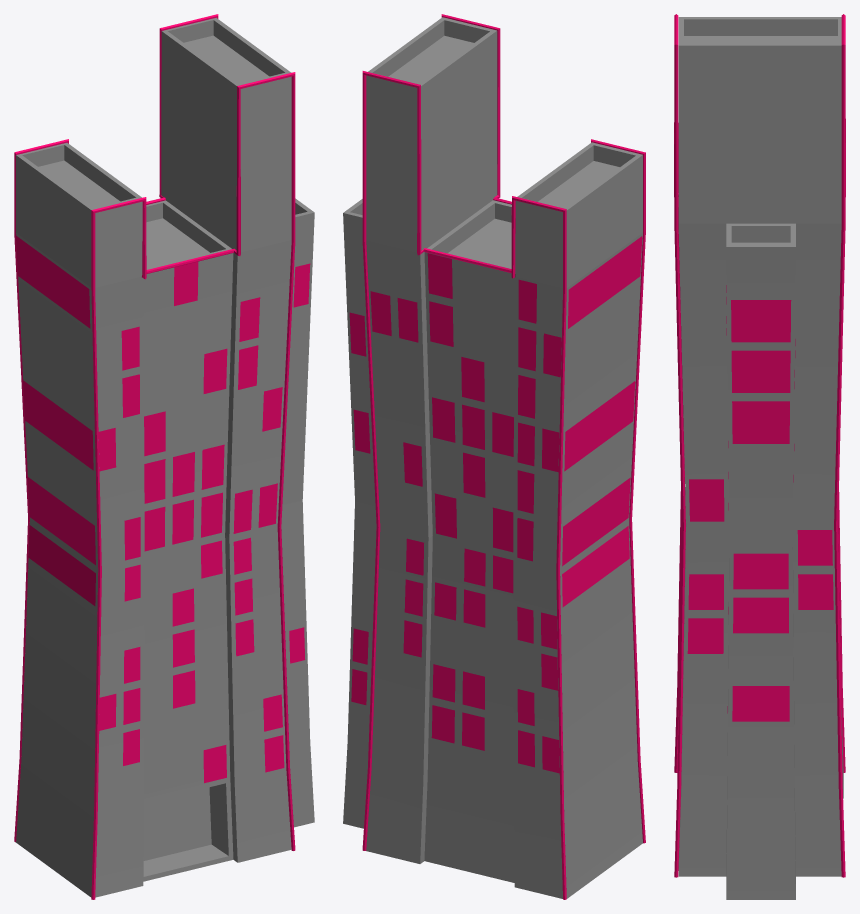
Rendered from obj_building002.FBX.
3 renders of one model, left to right at view 1: azimuth 30°, elevation 25°; view 2: azimuth 150°, elevation 25°; view 3: azimuth 270°, elevation 25°, orthographic. The views are drawn at different scales.
Parts seen in each view (by area): view 1: building002, Object015, Shape024; view 2: building002, Object015, Shape024; view 3: building002, Object015, Shape024.
Boxes of the visible parts, x1,y1,x2,y2 form: building002: (15,17,314,897); Object015: (16,236,310,783); Shape024: (14,14,295,899); building002: (343,17,642,898); Object015: (349,236,642,773); Shape024: (362,14,645,899); building002: (678,17,843,899); Object015: (679,251,840,721); Shape024: (674,14,845,877).
Size of the model in its own units: 3325 by 10030 by 1873.
